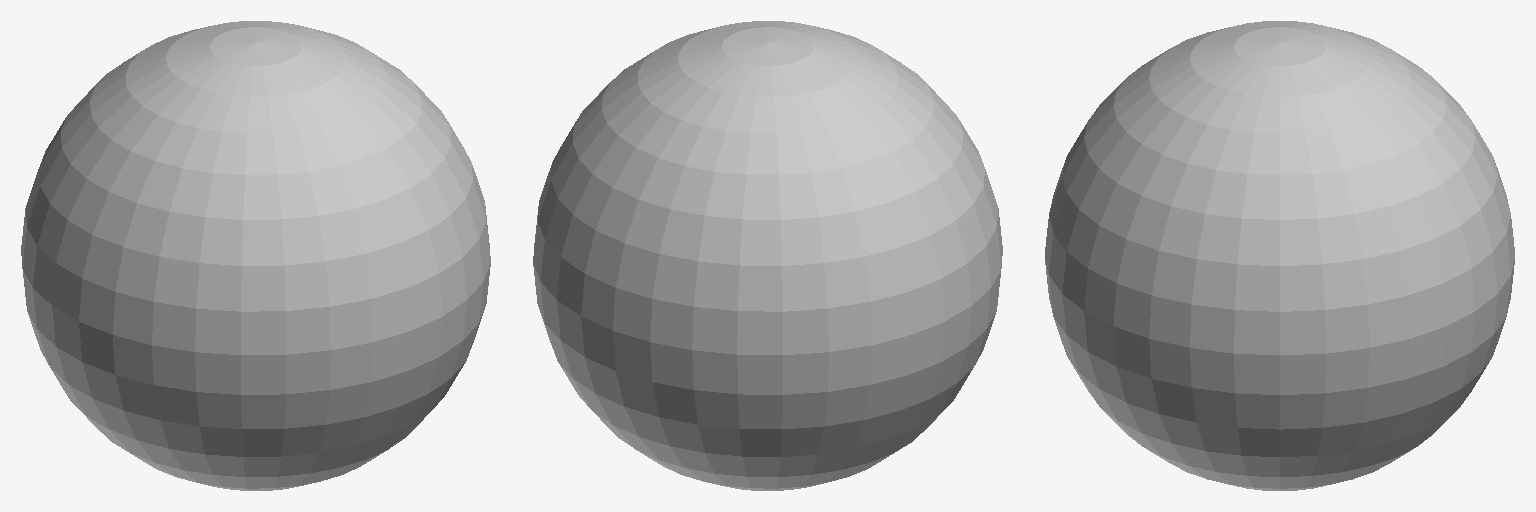
File: sun.obj
3 views of the same model, side by side, from view 1: azimuth 30°, elevation 25°; view 2: azimuth 150°, elevation 25°; view 3: azimuth 270°, elevation 25° (orthographic).
Visible parts, largest first — view 1: Sphere.001; view 2: Sphere.001; view 3: Sphere.001.
Boxes of the visible parts, box(x1,y1,x2,y2) form: Sphere.001: box(21, 21, 490, 490); Sphere.001: box(533, 21, 1002, 490); Sphere.001: box(1045, 21, 1514, 490).
Size of the model in its own units: 0.8761 by 0.8761 by 0.8761.